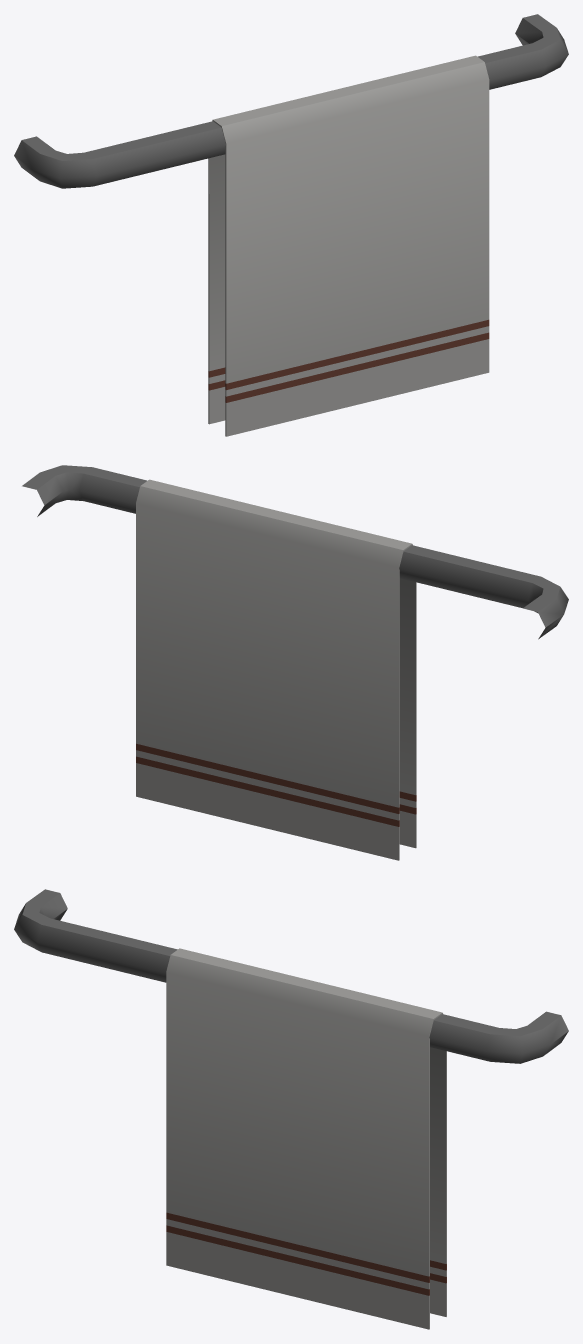
The model's file is Bathroom_Towel.gltf.
3 renders of one model, top to bottom at view 1: azimuth 30°, elevation 25°; view 2: azimuth 150°, elevation 25°; view 3: azimuth 330°, elevation 25°, orthographic.
Parts seen in each view (by area): view 1: Bathroom_Towel; view 2: Bathroom_Towel; view 3: Bathroom_Towel.
Part boxes in pixels (x1=…): Bathroom_Towel: x1=14, y1=14, x2=568, y2=436; Bathroom_Towel: x1=22, y1=465, x2=568, y2=860; Bathroom_Towel: x1=14, y1=889, x2=568, y2=1329.
Size of the model in its own units: 1.18 by 0.6538 by 0.1611.
